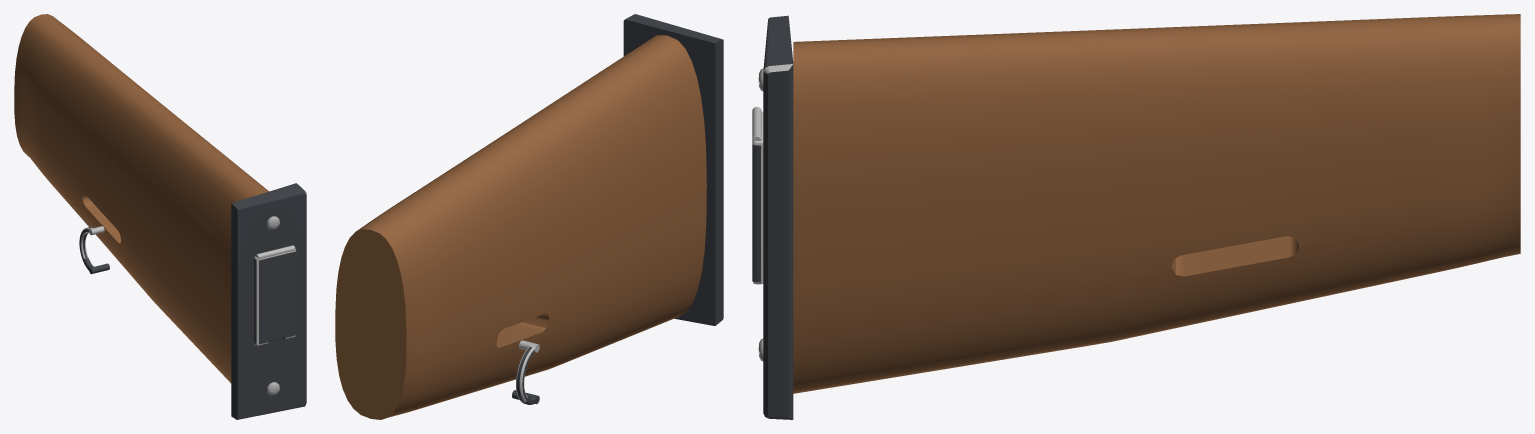
File: stock_sks.glb
3 renders of one model, left to right at view 1: azimuth 30°, elevation 25°; view 2: azimuth 150°, elevation 25°; view 3: azimuth 270°, elevation 25°, orthographic. The views are drawn at different scales.
Visible parts, largest first — view 1: static_butt.001; view 2: static_butt.001; view 3: static_butt.001.
Boxes of the visible parts, x1,y1,x2,y2 form: static_butt.001: [14, 14, 306, 419]; static_butt.001: [335, 14, 723, 419]; static_butt.001: [752, 14, 1520, 419].
Size of the model in its own units: 0.043 by 0.1312 by 0.2425.
